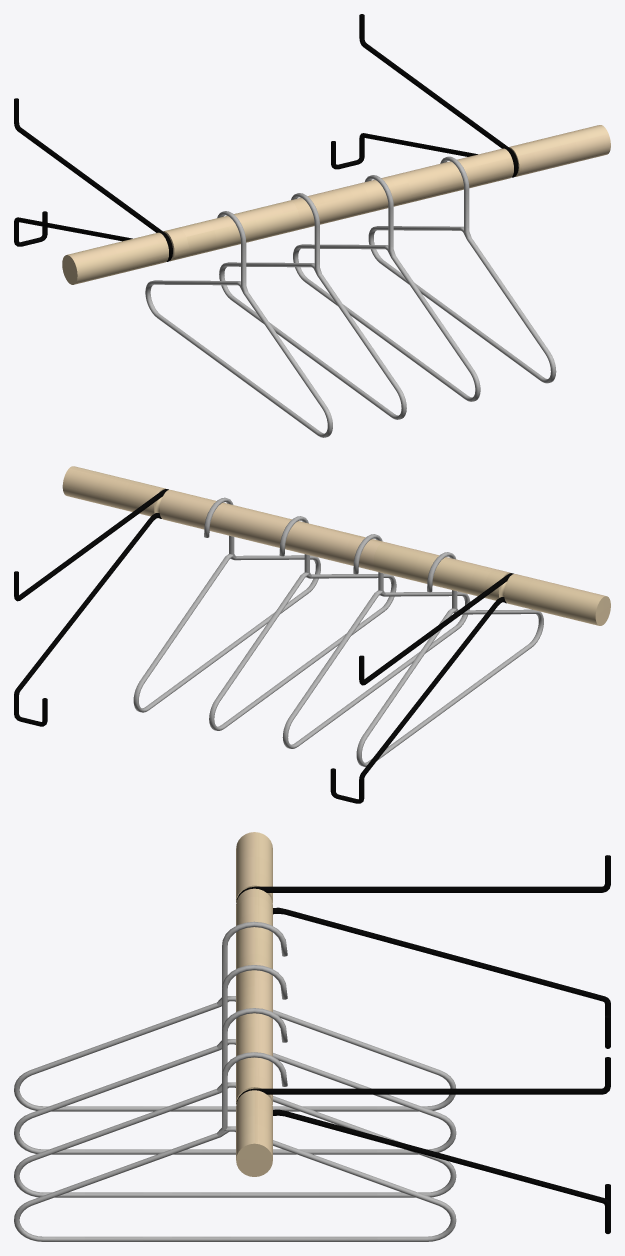
The model's file is wardrobe60_with_hanger.glb.
3 renders of one model, top to bottom at view 1: azimuth 30°, elevation 25°; view 2: azimuth 150°, elevation 25°; view 3: azimuth 270°, elevation 25°, orthographic. The views are drawn at different scales.
Visible parts, largest first — view 1: Geom3D (×7); view 2: Geom3D (×7); view 3: Geom3D (×7).
Boxes of the visible parts, x1=… form: Geom3D (×7): x1=14, y1=14, x2=610, y2=437; Geom3D (×7): x1=14, y1=466, x2=610, y2=803; Geom3D (×7): x1=14, y1=832, x2=610, y2=1241.
Size of the model in its own units: 0.6 by 0.1933 by 0.4857.
Materials: 3 (2 with a texture image).
